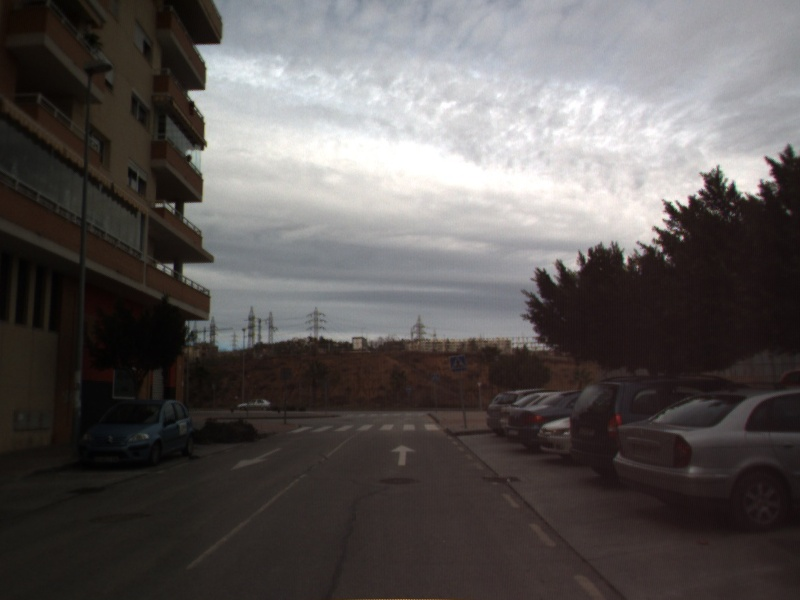STRAIGHT: (388, 442, 418, 468)
